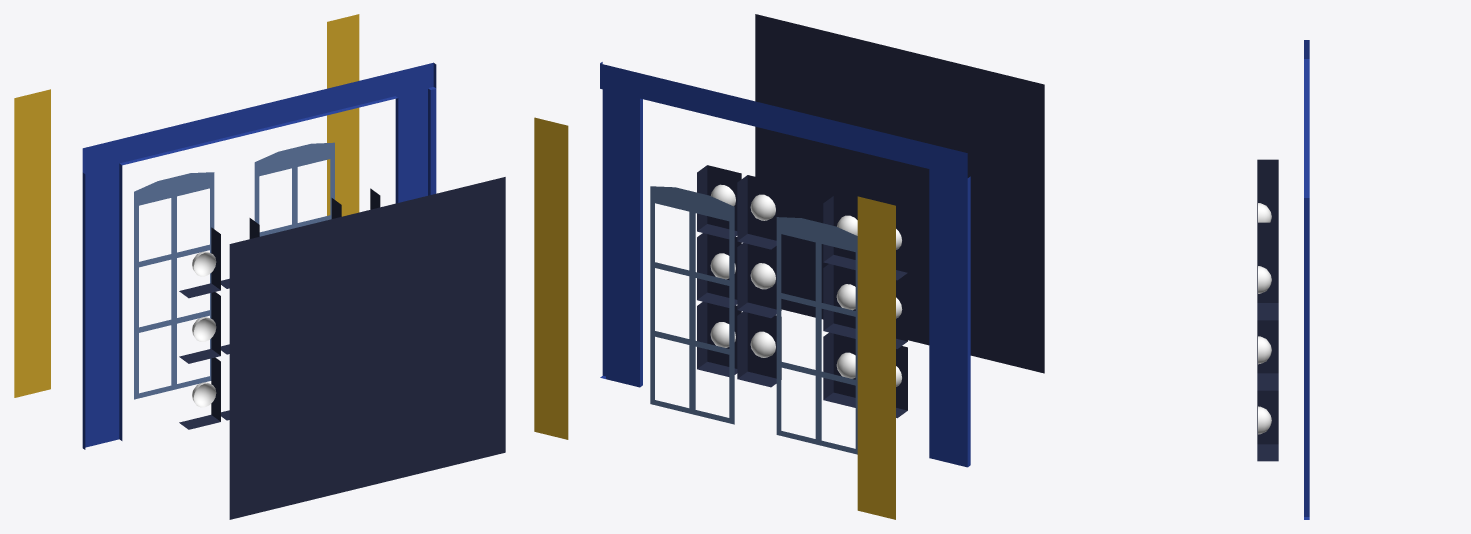
File: galaxy_building_middle.fbx
3 renders of one model, left to right at view 1: azimuth 30°, elevation 25°; view 2: azimuth 150°, elevation 25°; view 3: azimuth 270°, elevation 25°, orthographic. The views are drawn at different scales.
Parts seen in each view (by area): view 1: galaxy_building_middle; view 2: galaxy_building_middle; view 3: galaxy_building_middle.
Part boxes in pixels (x1,y1,x2,y2): galaxy_building_middle: (14, 14, 505, 519); galaxy_building_middle: (534, 14, 1044, 519); galaxy_building_middle: (1257, 40, 1309, 519).
Size of the model in its own units: 610 by 498 by 538.
